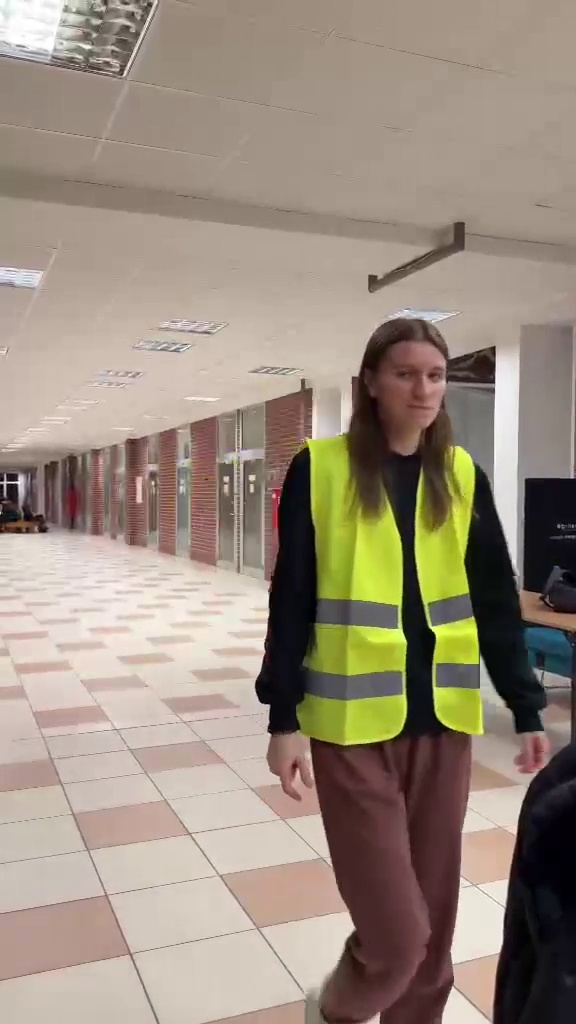vest: (265, 316, 552, 982)
